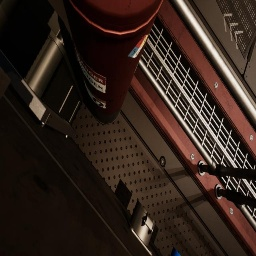NitrogenTank ,: (62, 0, 164, 125)
